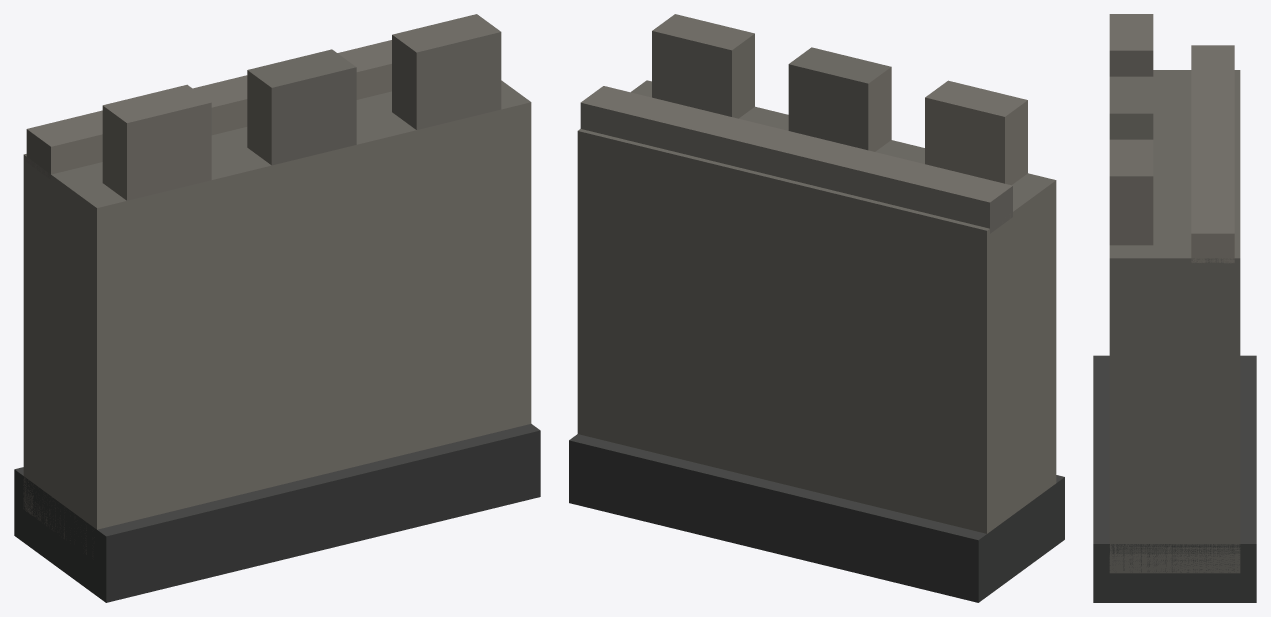
Rendered from stone_wall.glb.
3 renders of one model, left to right at view 1: azimuth 30°, elevation 25°; view 2: azimuth 150°, elevation 25°; view 3: azimuth 270°, elevation 25°, orthographic. The views are drawn at different scales.
Visible parts, largest first — view 1: stone_wall; view 2: stone_wall; view 3: stone_wall.
Part boxes in pixels (x1,y1,x2,y2): stone_wall: [14, 14, 540, 602]; stone_wall: [569, 14, 1064, 602]; stone_wall: [1093, 14, 1256, 602].
Size of the model in its own units: 4.1 by 4.2 by 1.5.
Materials: 1 (1 with a texture image).
